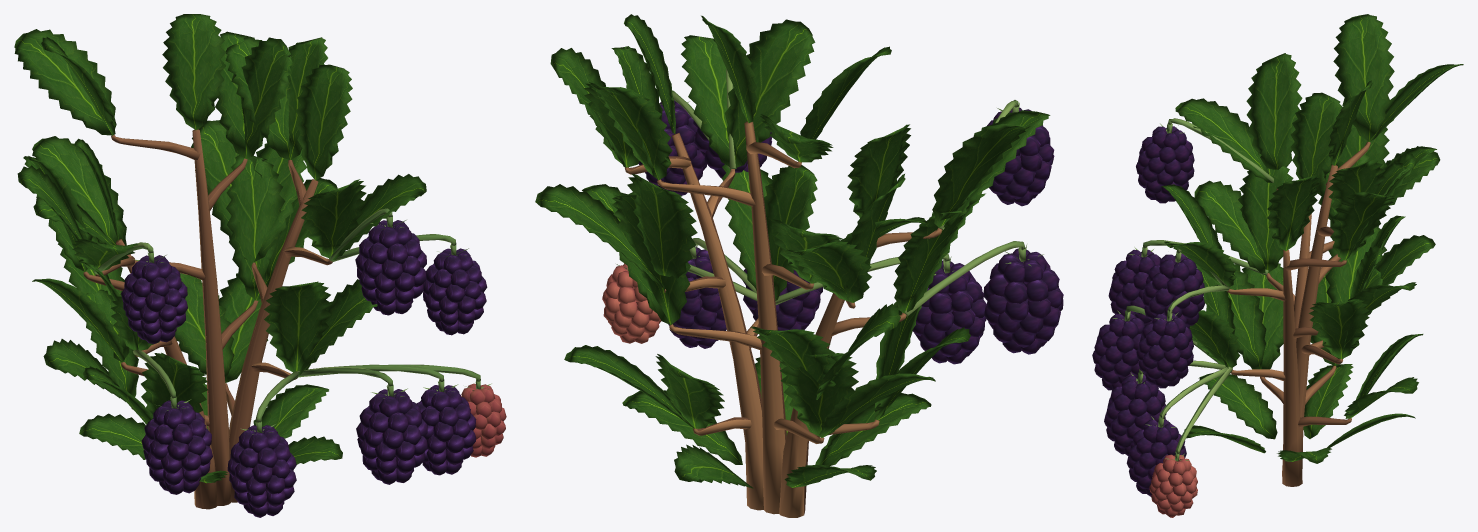
File: NP_Blackberry_Ready.fbx
3 renders of one model, left to right at view 1: azimuth 30°, elevation 25°; view 2: azimuth 150°, elevation 25°; view 3: azimuth 270°, elevation 25°, orthographic. The views are drawn at different scales.
Visible parts, largest first — view 1: NP_Blackberry_Ready; view 2: NP_Blackberry_Ready; view 3: NP_Blackberry_Ready.
Boxes of the visible parts, left/top/right/bottom form: NP_Blackberry_Ready: left=14, top=14, right=506, bottom=517; NP_Blackberry_Ready: left=535, top=14, right=1063, bottom=517; NP_Blackberry_Ready: left=1092, top=14, right=1463, bottom=517.
Size of the model in its own units: 102 by 106 by 87.91.
